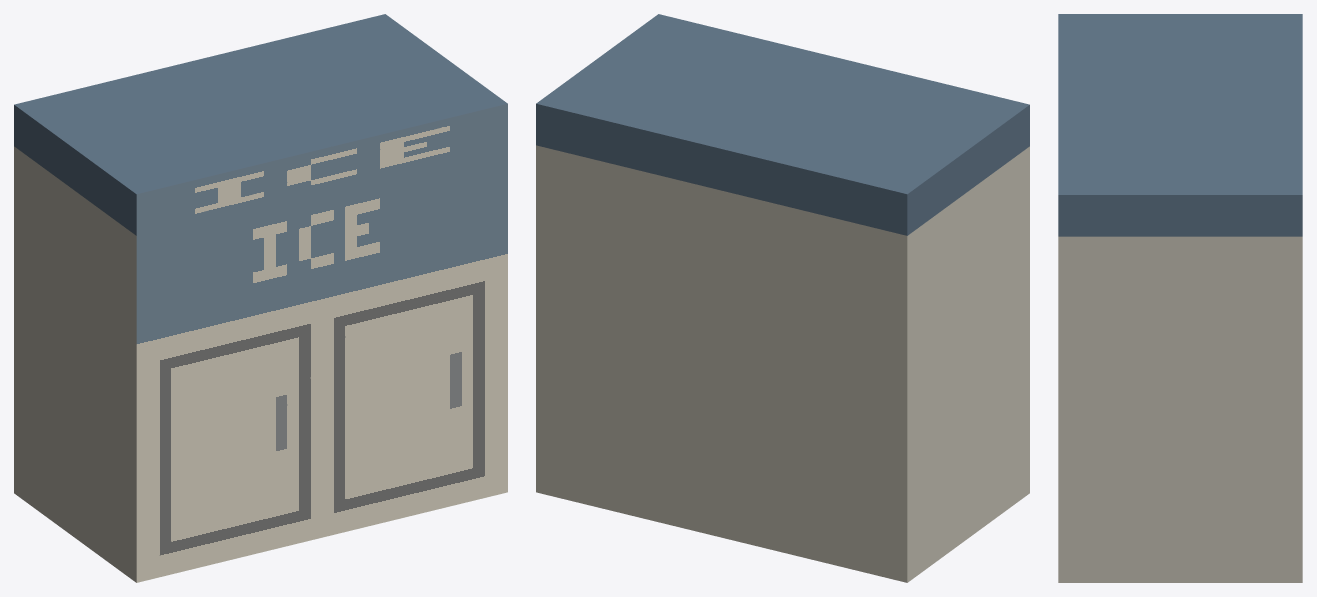
Rendered from COM_IceChest.glb.
3 renders of one model, left to right at view 1: azimuth 30°, elevation 25°; view 2: azimuth 150°, elevation 25°; view 3: azimuth 270°, elevation 25°, orthographic.
Parts seen in each view (by area): view 1: COM_IceChest_Mesh; view 2: COM_IceChest_Mesh; view 3: COM_IceChest_Mesh.
Part boxes in pixels (x1,y1,x2,y2): COM_IceChest_Mesh: [14, 14, 507, 582]; COM_IceChest_Mesh: [536, 14, 1029, 582]; COM_IceChest_Mesh: [1058, 14, 1302, 582].
Size of what is drawn, in the model's own units: 1.4 by 1.4 by 0.8.
1 material, 1 textured.
